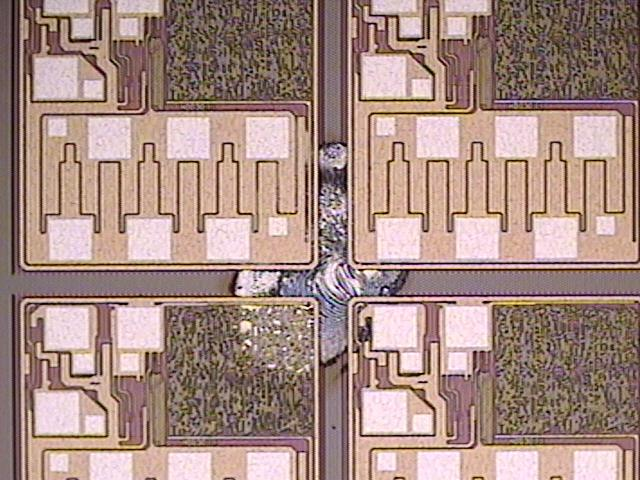BLOCK ETCH: (220, 142, 427, 387)
